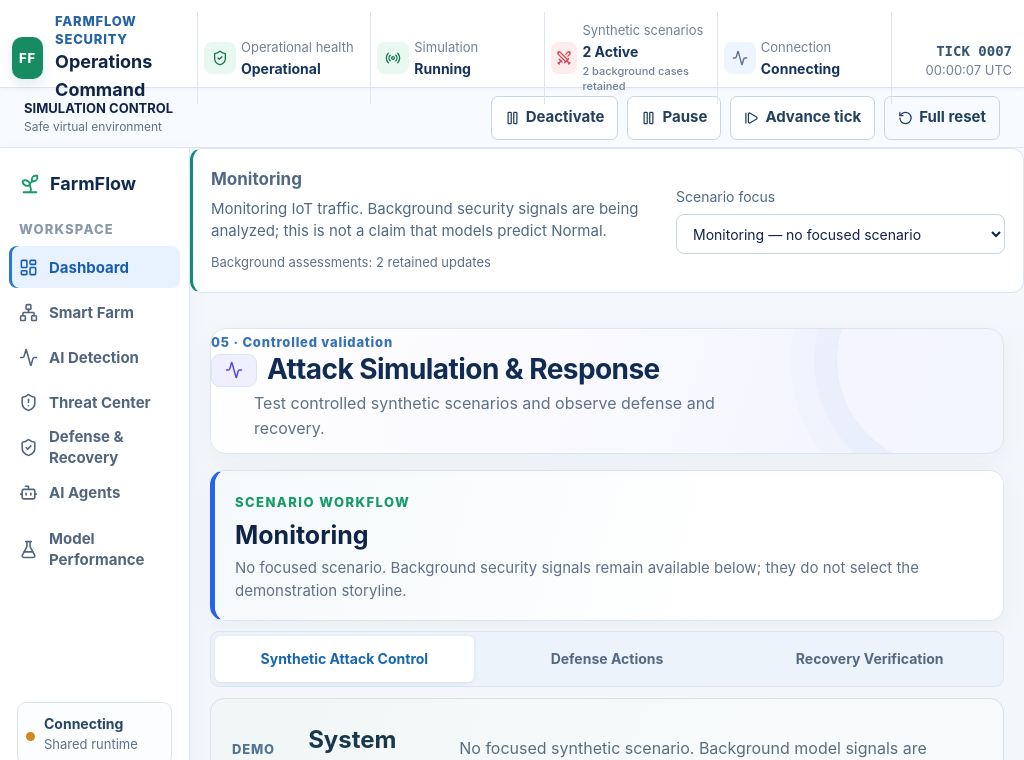
Test: persistent operator scenario focus › does not hijack focus with live unrelated assessment B and keeps all records
The width and height of the screenshot is (1024, 760).
Select "Port Scanning · gateway-01 · tick 5 · Active" in the dropdown labelled "Scenario focus" at coordinates (840, 234), box x1=676 y1=214 x2=1005 y2=254
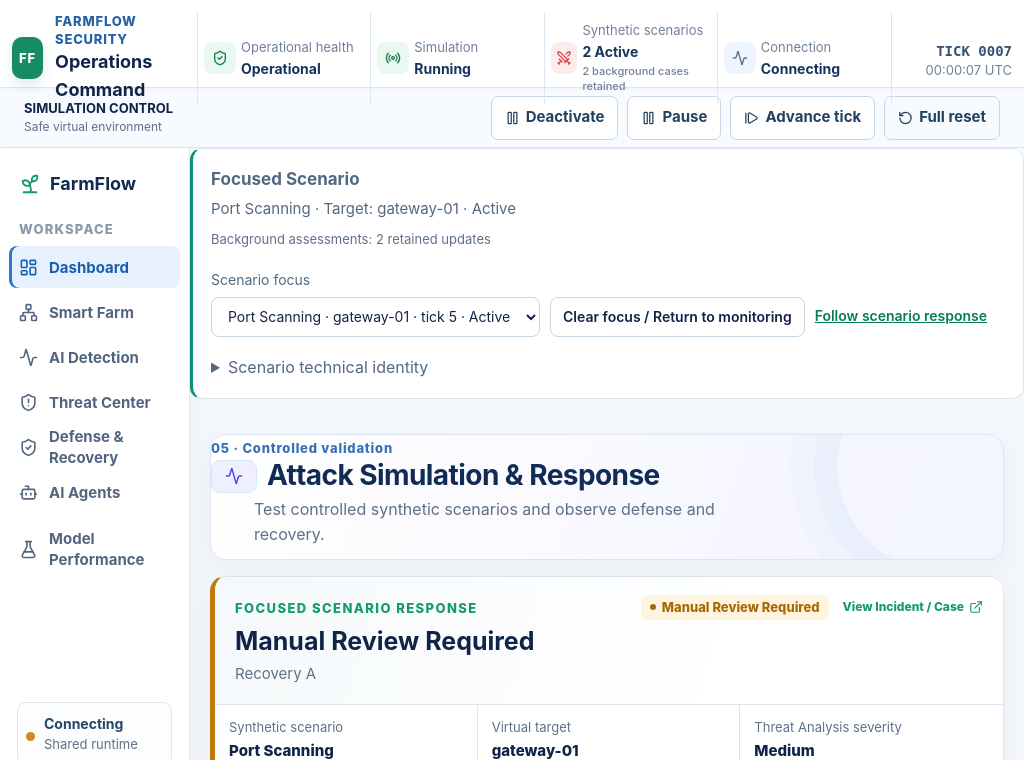
Check: the text "Background assessments: 2 retained updates" is shown, box x1=211 y1=231 x2=491 y2=247
Check: the heading "Manual Review Required" is shown, box x1=235 y1=622 x2=534 y2=661
